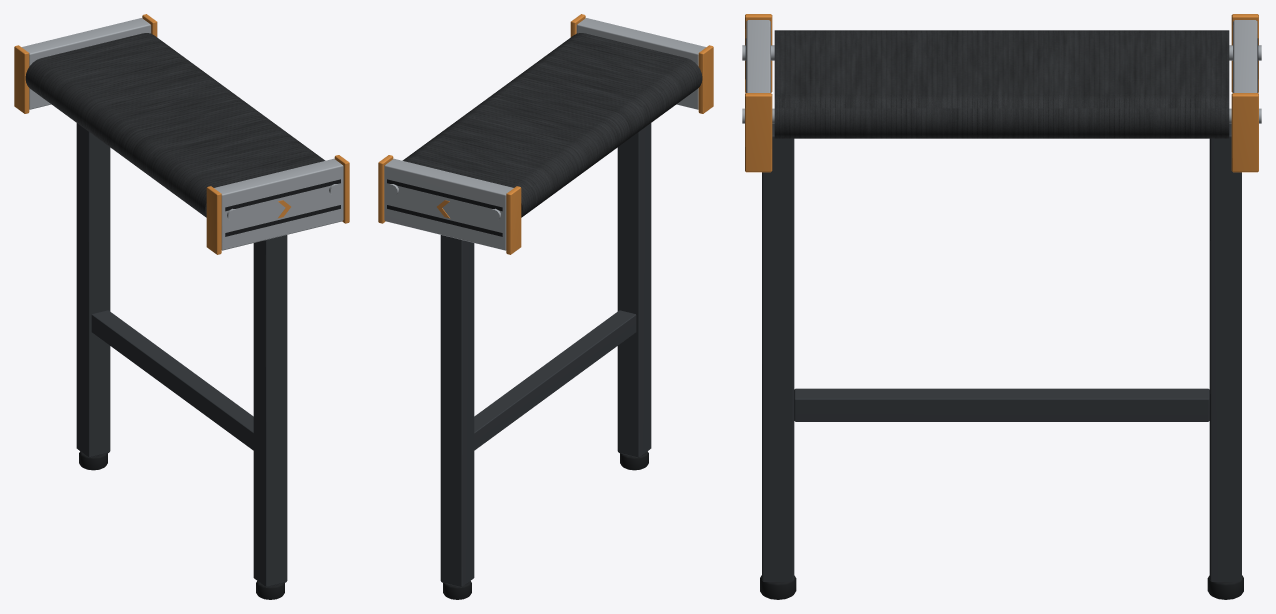
Rendered from Band01_030.fbx.
3 renders of one model, left to right at view 1: azimuth 30°, elevation 25°; view 2: azimuth 150°, elevation 25°; view 3: azimuth 270°, elevation 25°, orthographic. The views are drawn at different scales.
Visible parts, largest first — view 1: Band01_030__SteelDark, Band01_030__BeltRubber, Band01_030__BareSteel, Band01_030__SafetyOrange, Band01_030__Black; view 2: Band01_030__SteelDark, Band01_030__BeltRubber, Band01_030__BareSteel, Band01_030__SafetyOrange, Band01_030__Black; view 3: Band01_030__BeltRubber, Band01_030__SteelDark, Band01_030__SafetyOrange, Band01_030__BareSteel, Band01_030__Black.
Part boxes in pixels (box(x1,y1,x2,y2)): Band01_030__SteelDark: box(76, 123, 287, 587); Band01_030__BeltRubber: box(25, 33, 325, 217); Band01_030__BareSteel: box(21, 18, 343, 250); Band01_030__SafetyOrange: box(14, 14, 349, 254); Band01_030__Black: box(79, 179, 340, 599); Band01_030__SteelDark: box(440, 123, 651, 587); Band01_030__BeltRubber: box(402, 33, 702, 217); Band01_030__BareSteel: box(384, 18, 706, 250); Band01_030__SafetyOrange: box(378, 14, 713, 254); Band01_030__Black: box(387, 179, 648, 599); Band01_030__BeltRubber: box(774, 30, 1229, 138); Band01_030__SteelDark: box(762, 123, 1241, 581); Band01_030__SafetyOrange: box(745, 14, 1258, 172); Band01_030__BareSteel: box(742, 20, 1261, 123); Band01_030__Black: box(745, 38, 1258, 599).
Bounding box in the file's own units: 30 × 91.6 × 80.
5 materials, 1 textured.
